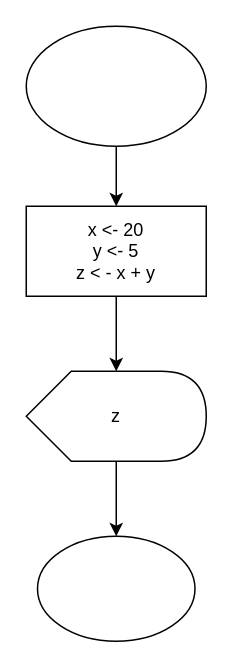
Some shapes in this 233 by 668 pixel diagram are drawn without their labels. Each missing label, with the centre of its shape:
Fim: the point at 115,588
Inicio: the point at 115,85
